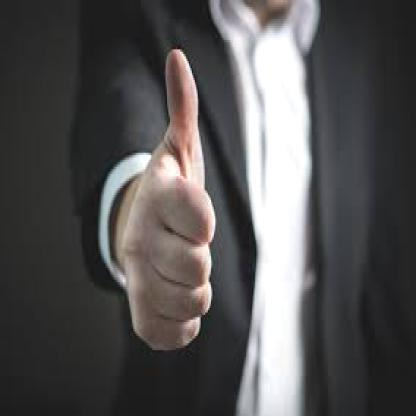Thumbs up: (138, 50, 209, 345)
